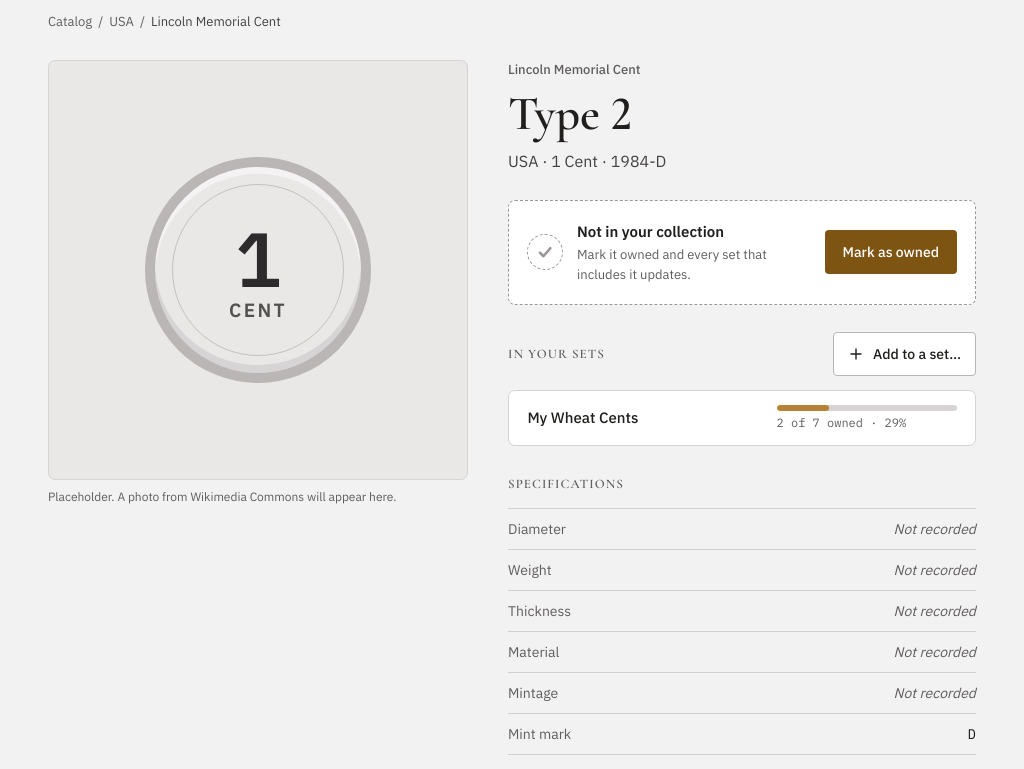
Scenario: CoinDetailPage › run_20261019_205931 criteria 10-11: Add to a set menu › lists each user set: containing sets are checked and inert, others available
expect the element with test id "coin-detail-sets" is shown: met, box top-left (508, 332), bottom-right (976, 446)
Click the button with test id "coin-detail-add-to-set". click: [904, 354]
box: top-left (833, 332), bottom-right (976, 376)
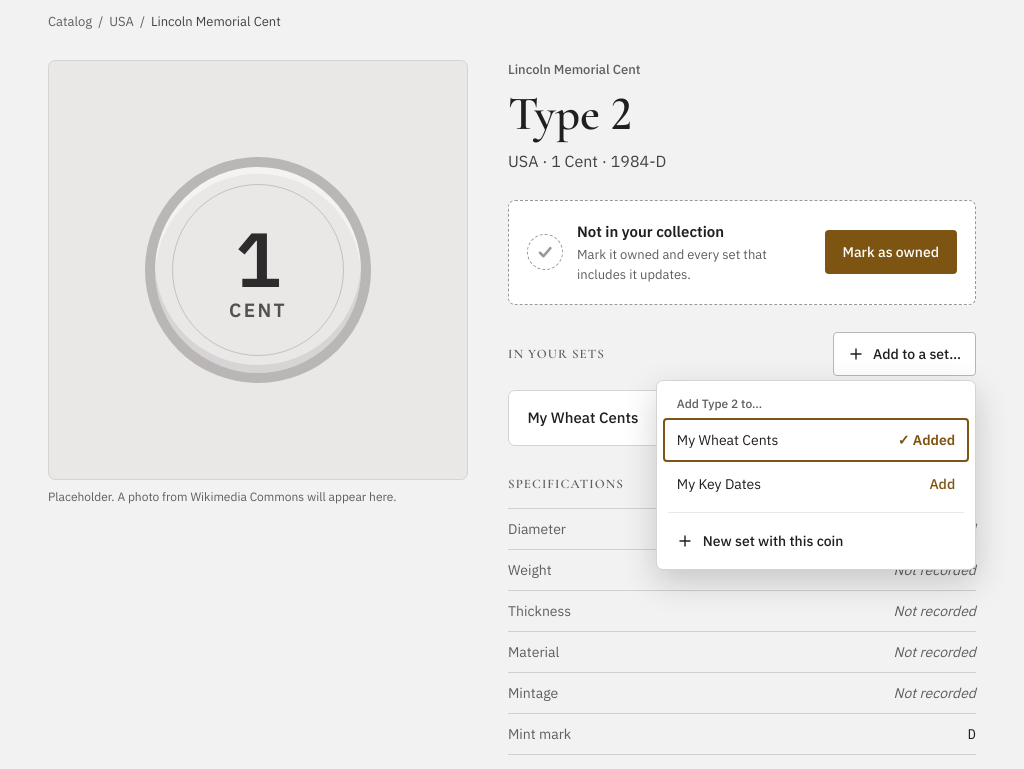
expect the menu item with test id "coin-detail-add-to-set-item" shows "✓ Added": met, box top-left (663, 418), bottom-right (969, 462)
expect the menu item with test id "coin-detail-add-to-set-item" shows "My Key Dates": met, box top-left (663, 462), bottom-right (969, 506)
